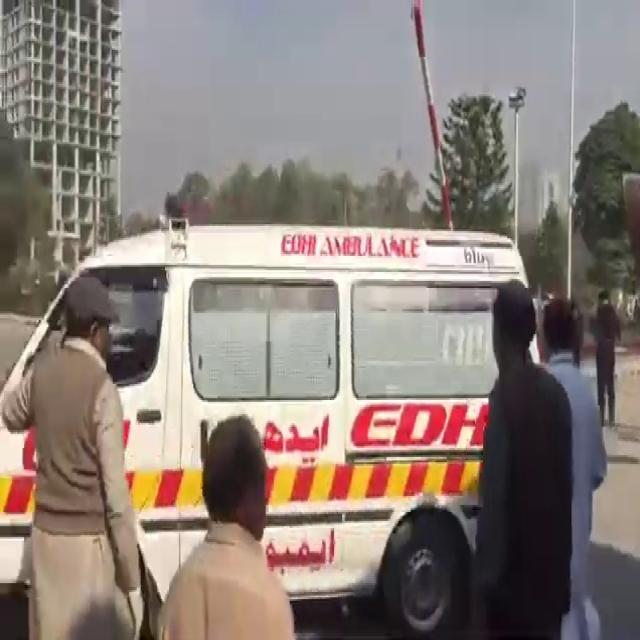ambulance: (9, 226, 529, 584)
